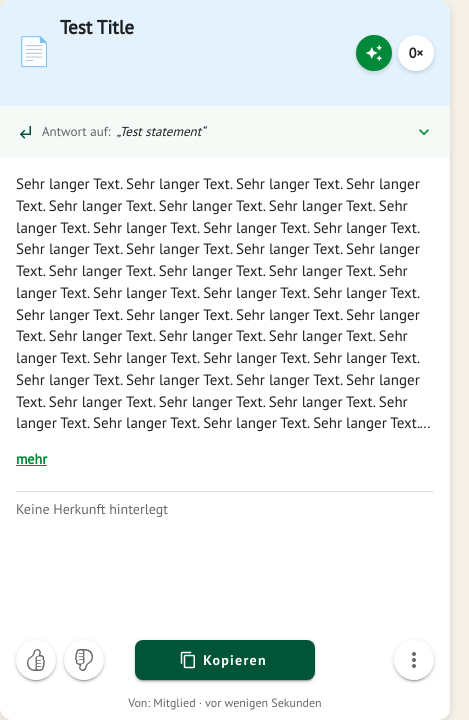
Test: BeitragskarteComponent › Text › kuerzt langen Text und klappt ihn mit "mehr" auf
Click the button with class "mehr-knopf". click: (31, 459)
box: [16,443,47,475]
(page scrolled)
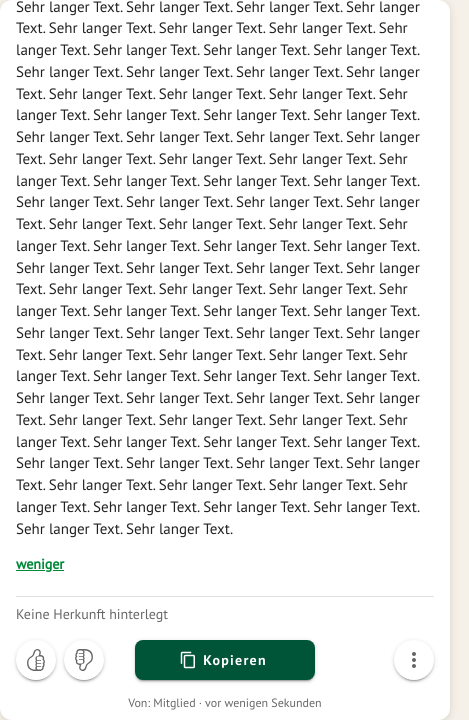
Now the button with class "mehr-knopf" reads "weniger", box [16,548,64,580]
